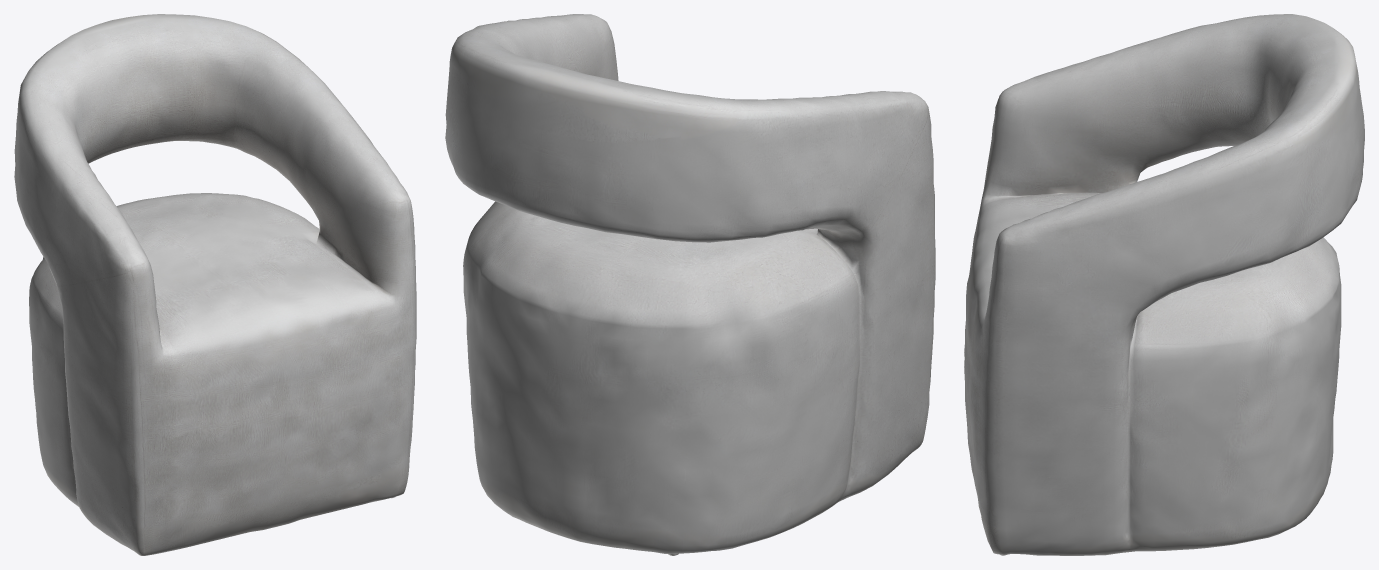
File: Arc_Chair_0404021544_texture.glb
The picture shows the model from 3 angles, left to right: view 1: azimuth 30°, elevation 25°; view 2: azimuth 150°, elevation 25°; view 3: azimuth 270°, elevation 25°; orthographic projection. The views are drawn at different scales.
Visible parts, largest first — view 1: Mesh_0.003; view 2: Mesh_0.003; view 3: Mesh_0.003.
Part boxes in pixels (bbox=[...]): Mesh_0.003: bbox=[14, 14, 416, 555]; Mesh_0.003: bbox=[445, 14, 935, 555]; Mesh_0.003: bbox=[964, 14, 1364, 555].
Size of the model in its own units: 0.6706 by 0.8128 by 0.684.
1 material, 1 textured.
